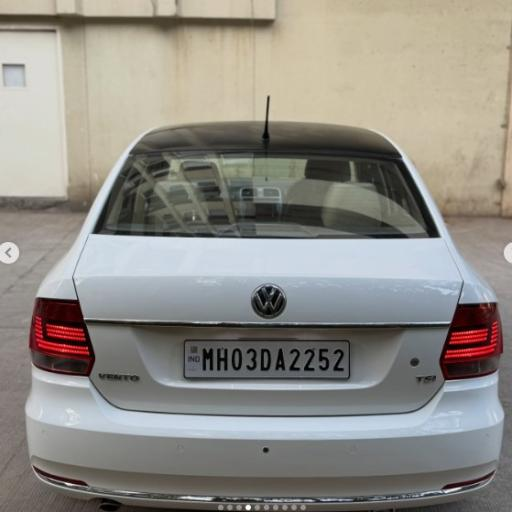License: (177, 335, 354, 382)
